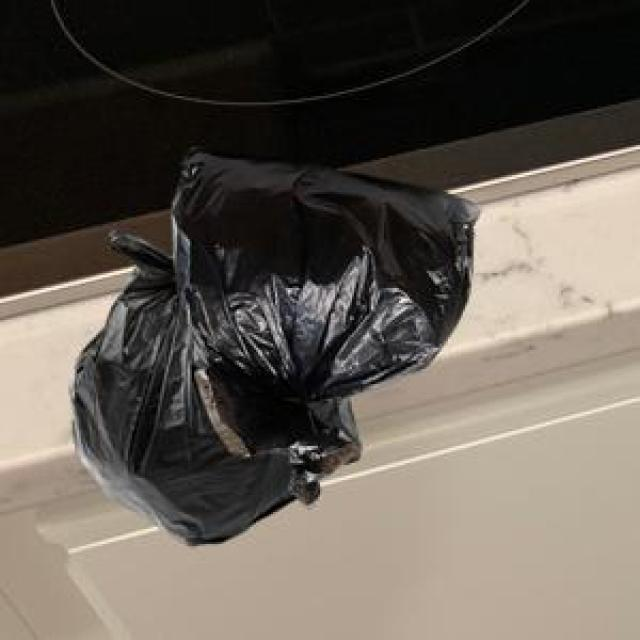Trashbag: (163, 143, 487, 467)
